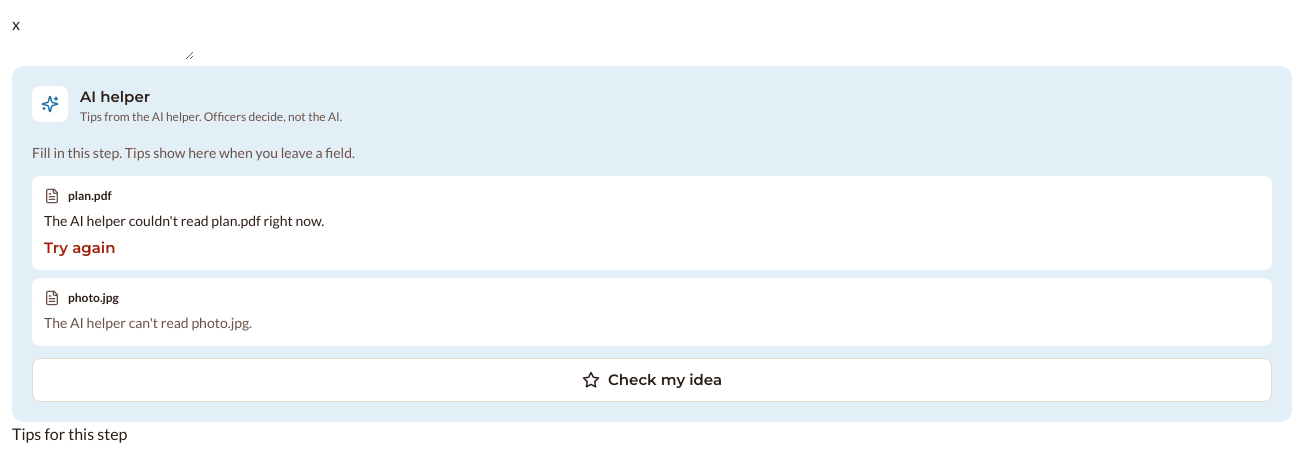
Test: AiHelperPanel › documents: a failed review says so with Try again; a file the helper cannot open says so without
Click the button "Try again" at (80, 248), box [44, 238, 115, 258]
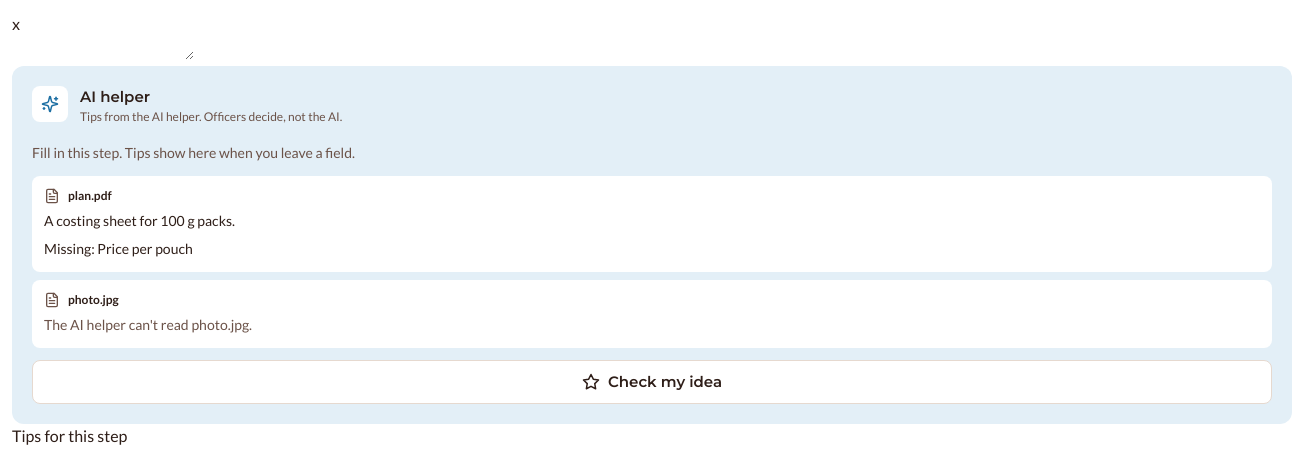
Now the text "A costing sheet for 100 g packs." is shown, box [44, 212, 235, 229]
